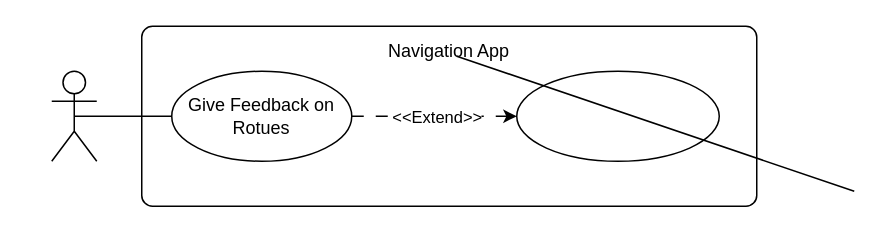
Image size: 882x233. Some labels were removed from this diagram. Each missing label, with the box of its shape:
Email with Feedback Sent to Admin: (515, 70, 719, 161)
UMBC User: (50, 70, 97, 161)
